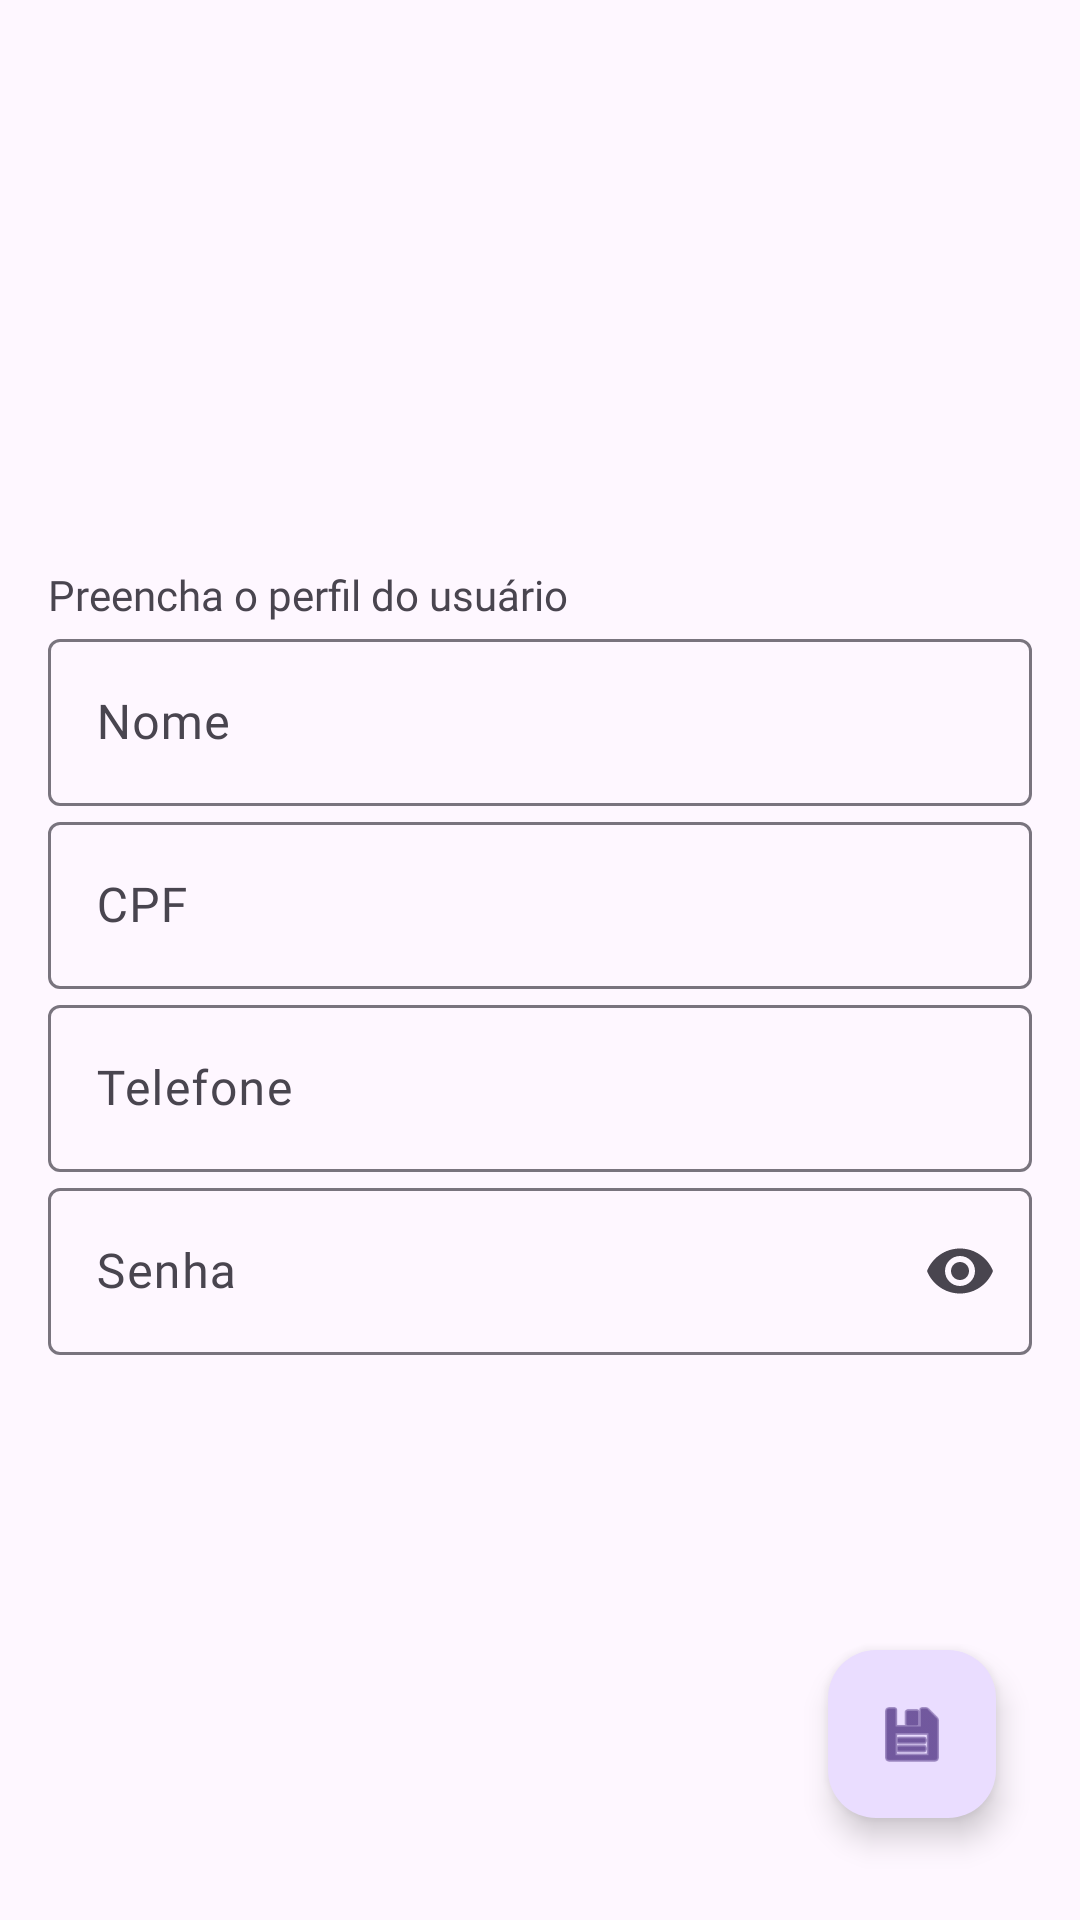

Where to tap for icons on this 1080*1920 app screen, as [x,y]:
Salvar dados do usuário: [913,1742]
